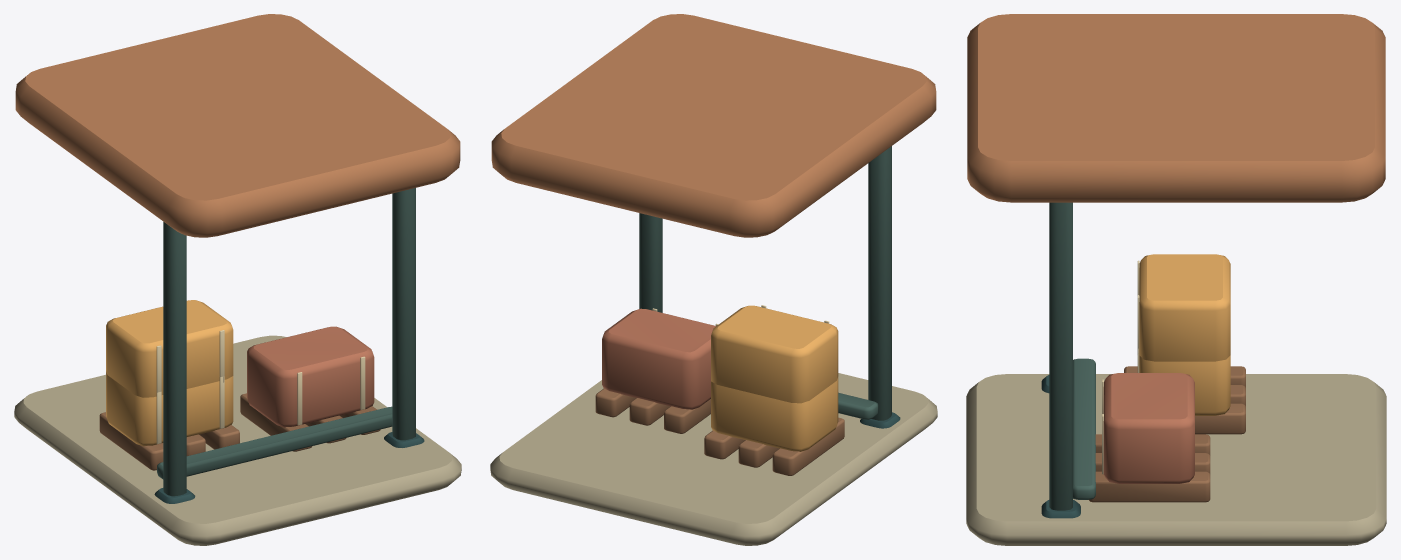
Rendered from wilderness_haulage_2.glb.
The picture shows the model from 3 angles, left to right: view 1: azimuth 30°, elevation 25°; view 2: azimuth 150°, elevation 25°; view 3: azimuth 270°, elevation 25°; orthographic projection. The views are drawn at different scales.
Visible parts, largest first — view 1: WildernessHaulage2; view 2: WildernessHaulage2; view 3: WildernessHaulage2.
Boxes of the visible parts, left/top/right/bottom form: WildernessHaulage2: left=14, top=14, right=461, bottom=545; WildernessHaulage2: left=490, top=14, right=937, bottom=545; WildernessHaulage2: left=966, top=14, right=1386, bottom=545.
Bounding box in the file's own units: 2.18 × 2.51 × 2.48.
